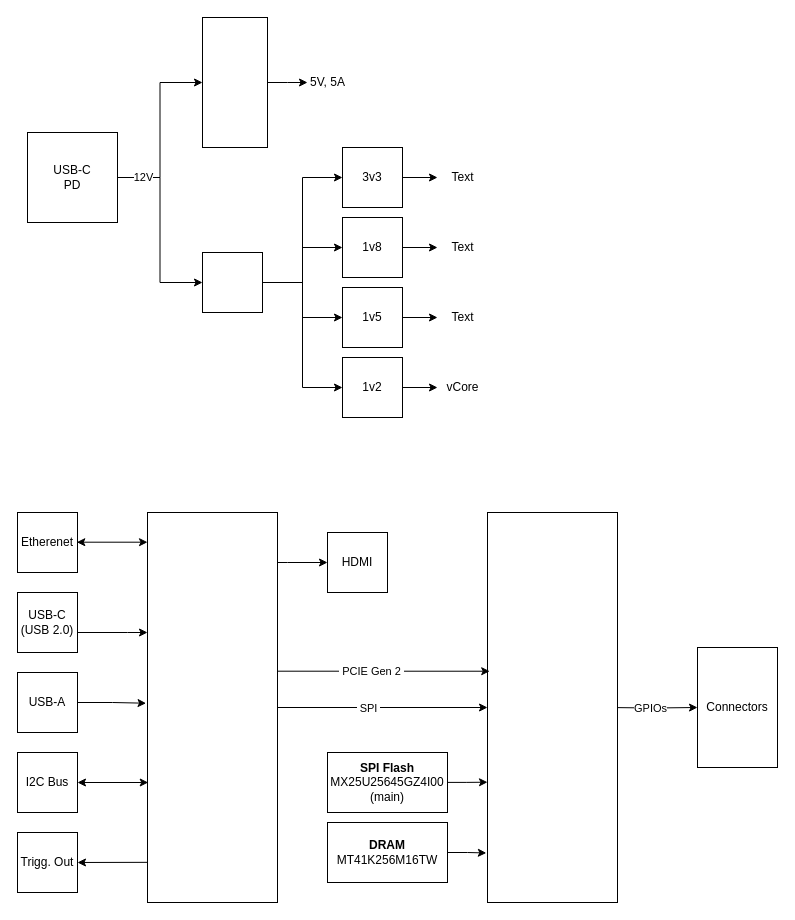
Some shapes in this 795 by 920 pixel diagram are drawn without their labels. The box of each missing label's shape, as (x1, y1, x2, y2) in pixels:
5V_Aux: (202, 252, 262, 312)
CM_5V: (202, 16, 268, 148)
Lattice FPGA (LFE5U-45F-6BG256C): (486, 512, 618, 902)
RPI CM5 Compute with eMMC: (146, 512, 278, 902)
